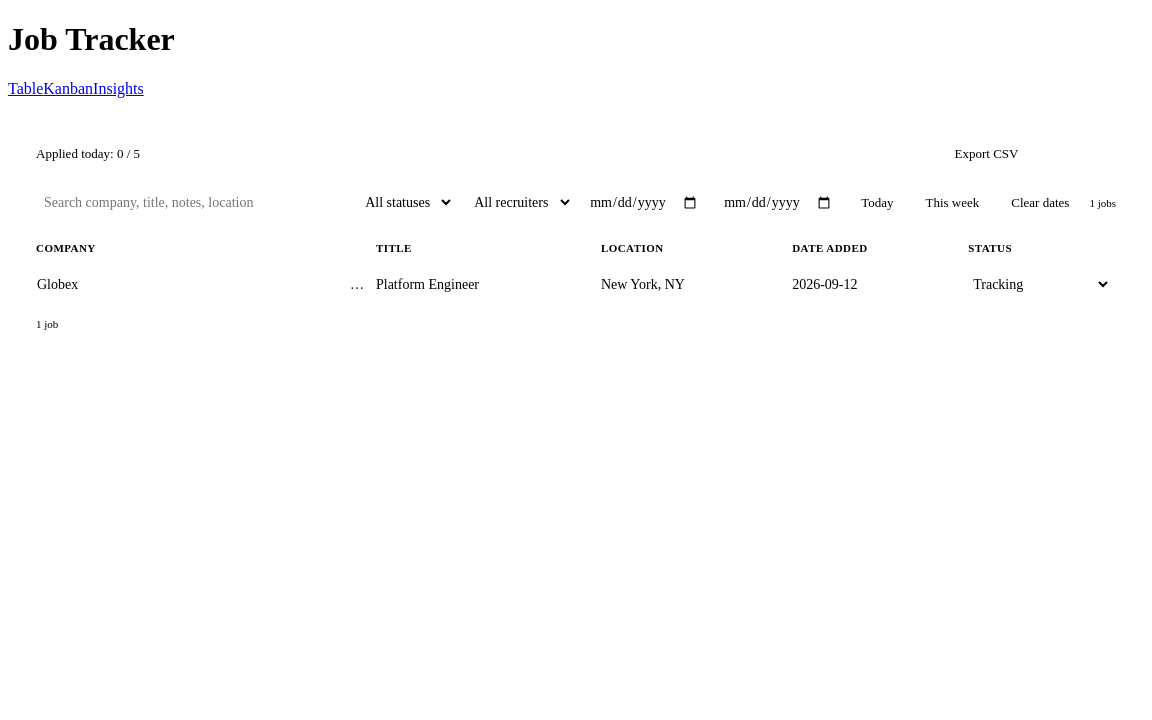
Test: the same URL arrived at cold › is the destination of the drawer's own expand button
The image size is (1152, 720).
Click the text "Platform Engineer" at (428, 286), box [376,274,479,297]
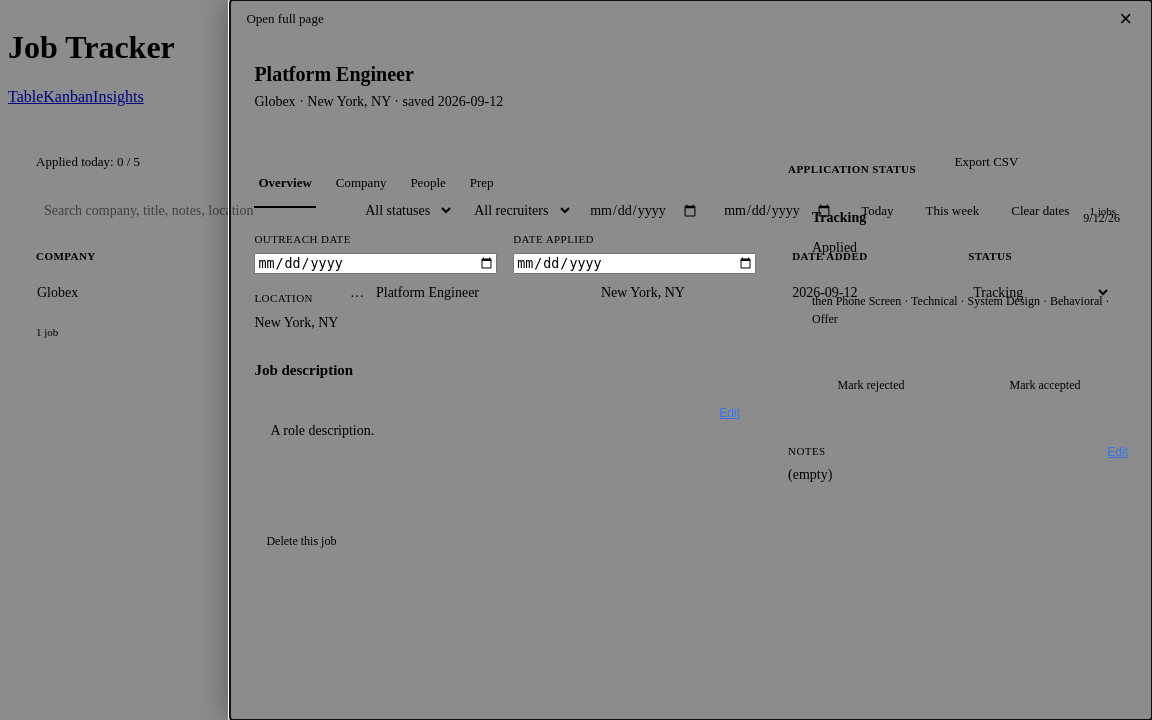
Click the button "Open full page" at (285, 19), box [246,11,324,27]
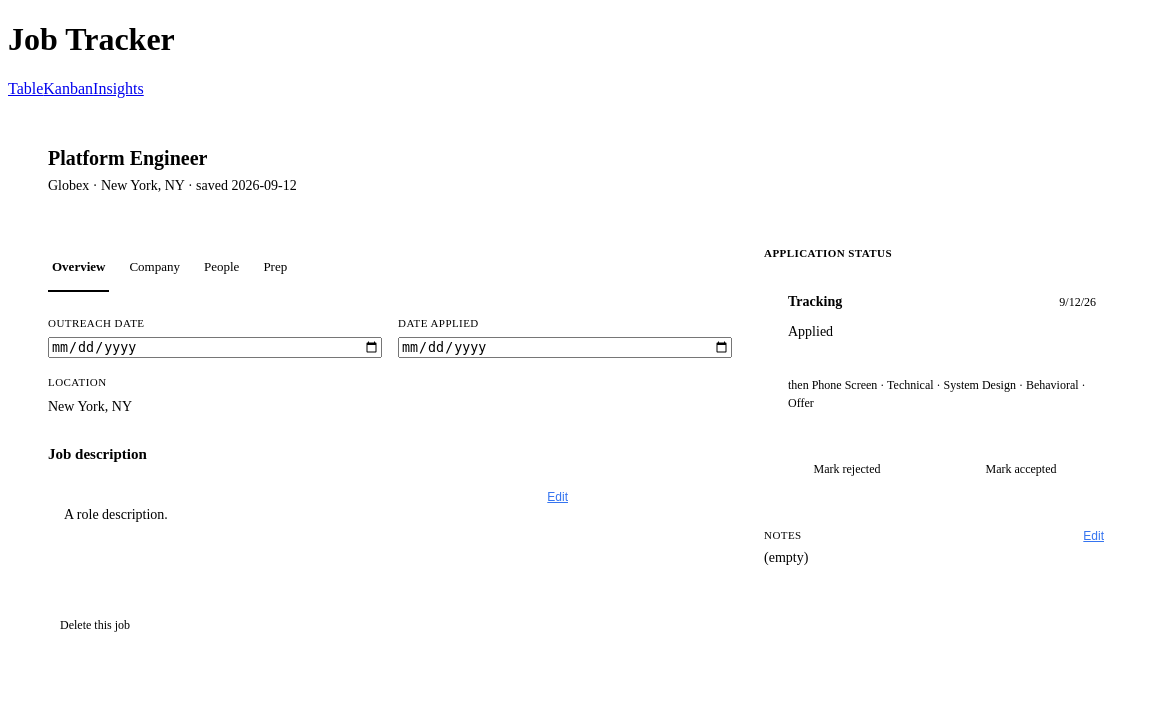
Check: the text "A role description." is shown, box [64,507,168,522]
Check: the dialog is gone
